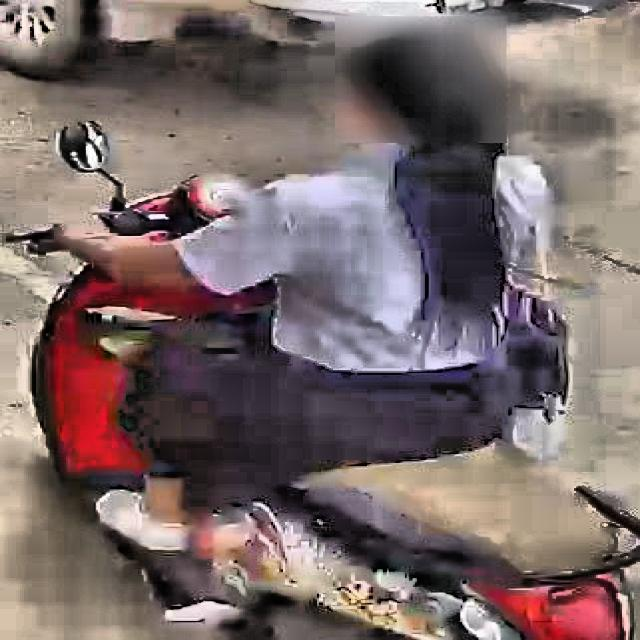motorcycle: (0, 115, 636, 633)
